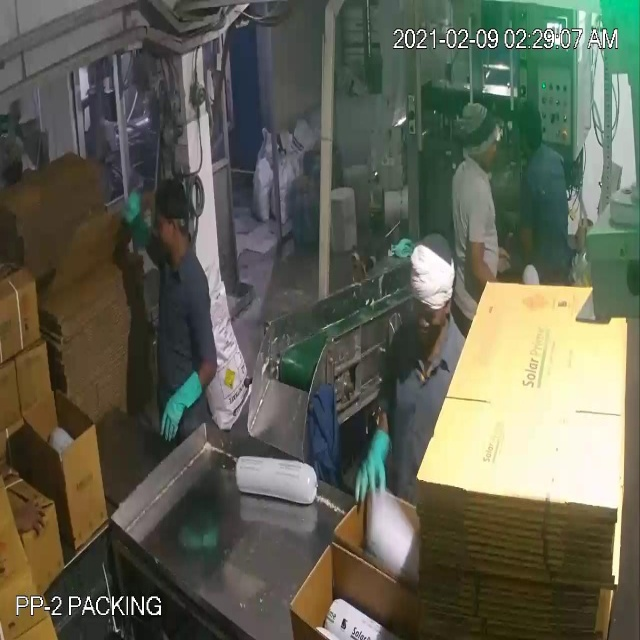Guantes: (152, 360, 217, 440), (346, 420, 401, 513), (118, 188, 153, 250)
